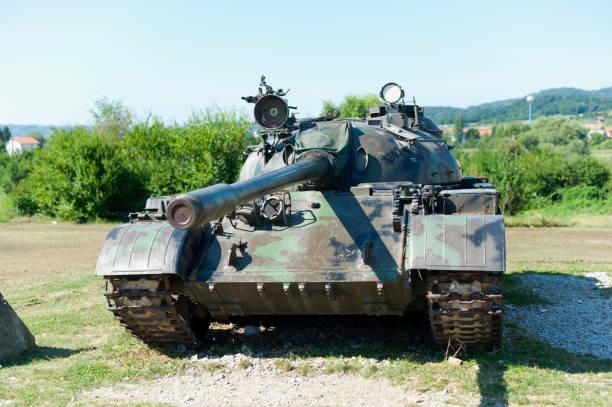tank: (94, 97, 508, 350)
